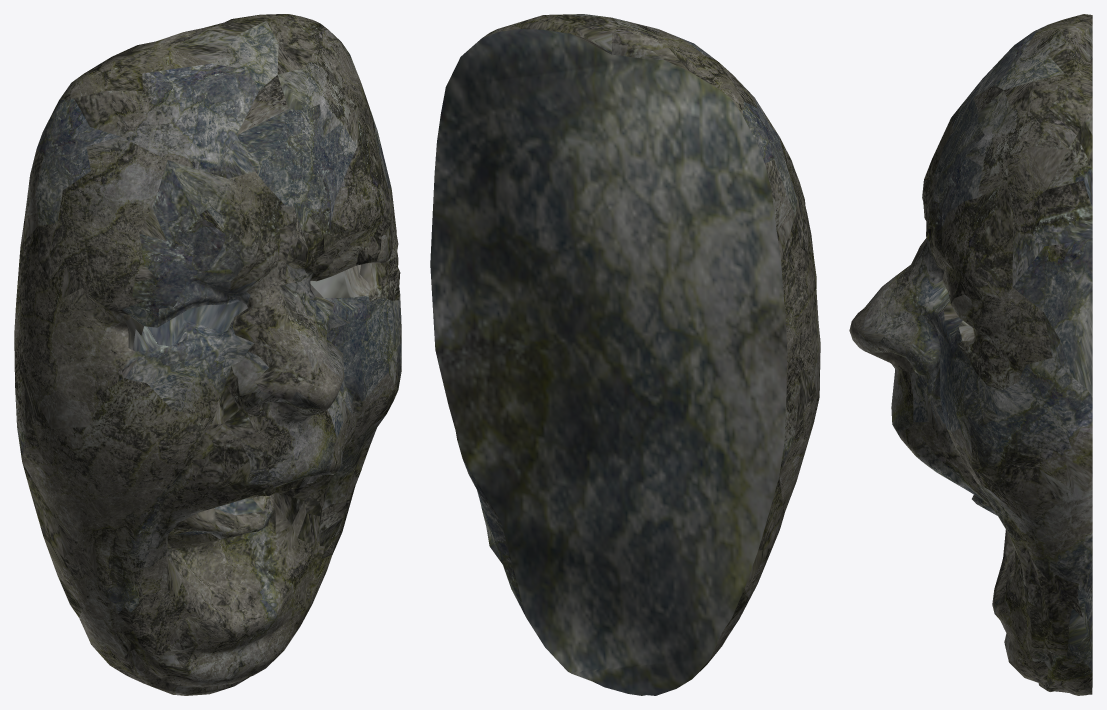
Rendered from Face_RockyTexture.fbx.
3 views of the same model, side by side, from view 1: azimuth 30°, elevation 25°; view 2: azimuth 150°, elevation 25°; view 3: azimuth 270°, elevation 25° (orthographic). The views are drawn at different scales.
Parts seen in each view (by area): view 1: DecorativeFaceScan_0; view 2: DecorativeFaceScan_0; view 3: DecorativeFaceScan_0.
Part boxes in pixels (x1,y1,x2,y2): DecorativeFaceScan_0: [14, 14, 401, 695]; DecorativeFaceScan_0: [430, 14, 820, 695]; DecorativeFaceScan_0: [849, 14, 1092, 695].
Bounding box in the file's own units: 129 × 223 × 76.76.
1 material, 1 textured.
